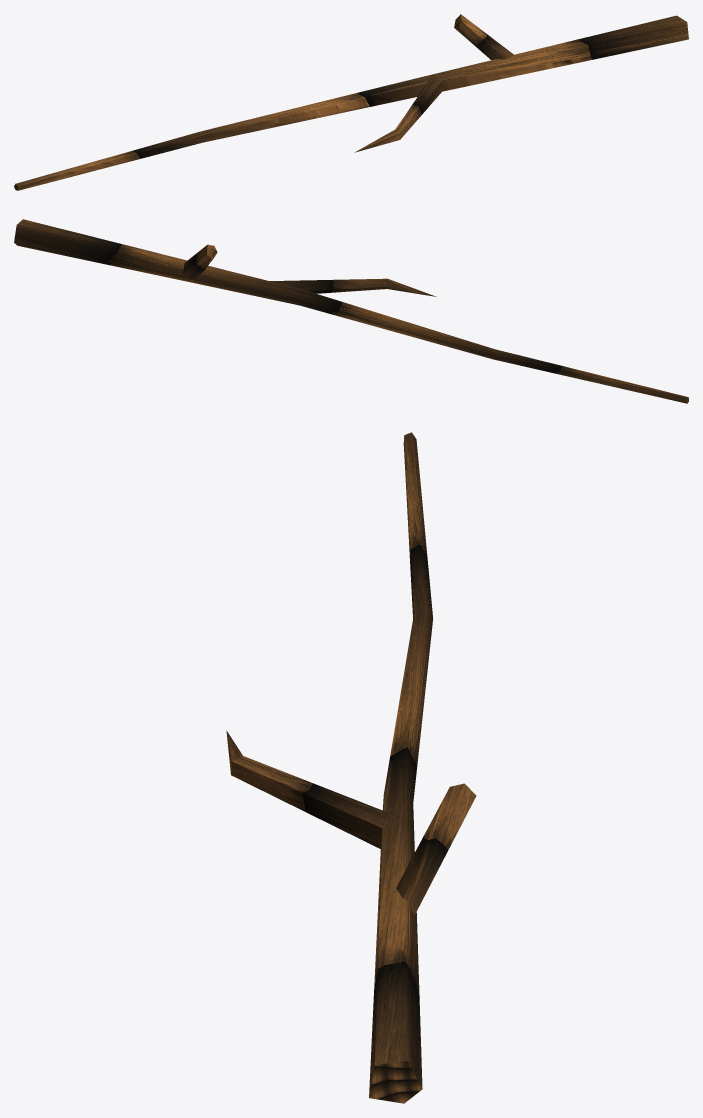
File: CRAFT_DREWNO.glb
3 views of the same model, one above another, from view 1: azimuth 30°, elevation 25°; view 2: azimuth 150°, elevation 25°; view 3: azimuth 270°, elevation 25° (orthographic). The views are drawn at different scales.
Parts seen in each view (by area): view 1: CRAFT_DREWNO; view 2: CRAFT_DREWNO; view 3: CRAFT_DREWNO.
Boxes of the visible parts, box(x1,y1,x2,y2) form: CRAFT_DREWNO: box(14, 14, 688, 190); CRAFT_DREWNO: box(14, 219, 688, 403); CRAFT_DREWNO: box(226, 432, 476, 1103).
Bounding box in the file's own units: 1.2 × 0.106 × 0.1953.
1 material, 1 textured.
